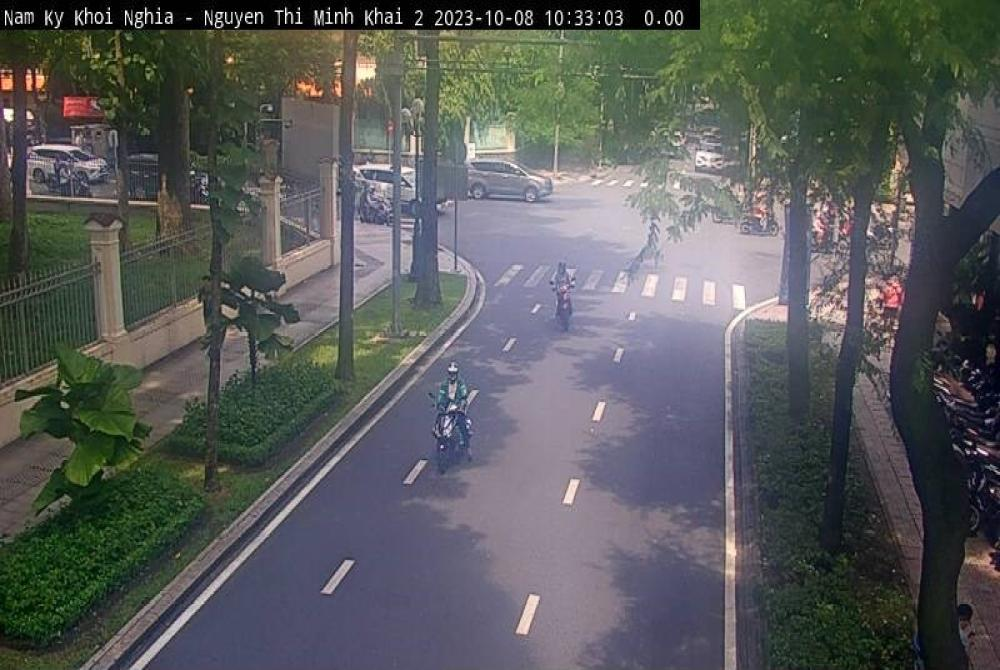car: (458, 146, 558, 217), (27, 134, 111, 190), (354, 154, 421, 217)
